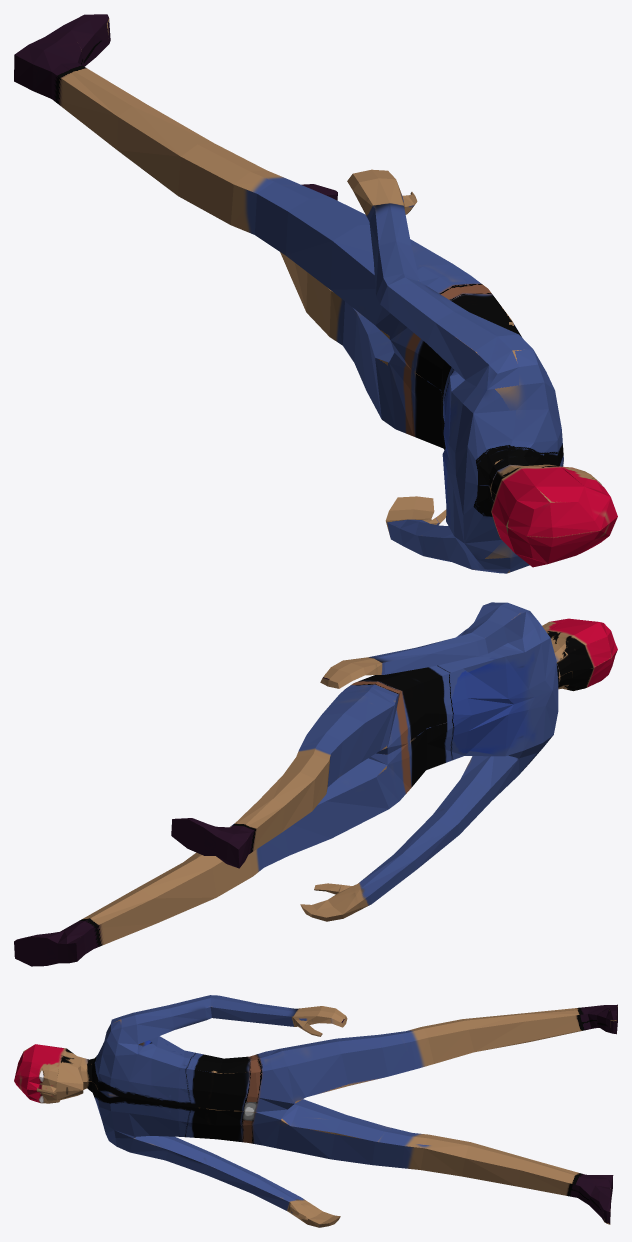
File: mirrorman_000010.obj
3 views of the same model, one above another, from view 1: azimuth 30°, elevation 25°; view 2: azimuth 150°, elevation 25°; view 3: azimuth 270°, elevation 25° (orthographic). The views are drawn at different scales.
Parts seen in each view (by area): view 1: mirrorman_Cube.001_Material.001; view 2: mirrorman_Cube.001_Material.001; view 3: mirrorman_Cube.001_Material.001.
Boxes of the visible parts, x1=… form: mirrorman_Cube.001_Material.001: x1=14, y1=14, x2=617, y2=573; mirrorman_Cube.001_Material.001: x1=14, y1=602, x2=617, y2=966; mirrorman_Cube.001_Material.001: x1=14, y1=995, x2=617, y2=1227.
Size of the model in its own units: 0.6638 by 0.6942 by 1.86.
Materials: 1 (1 with a texture image).
